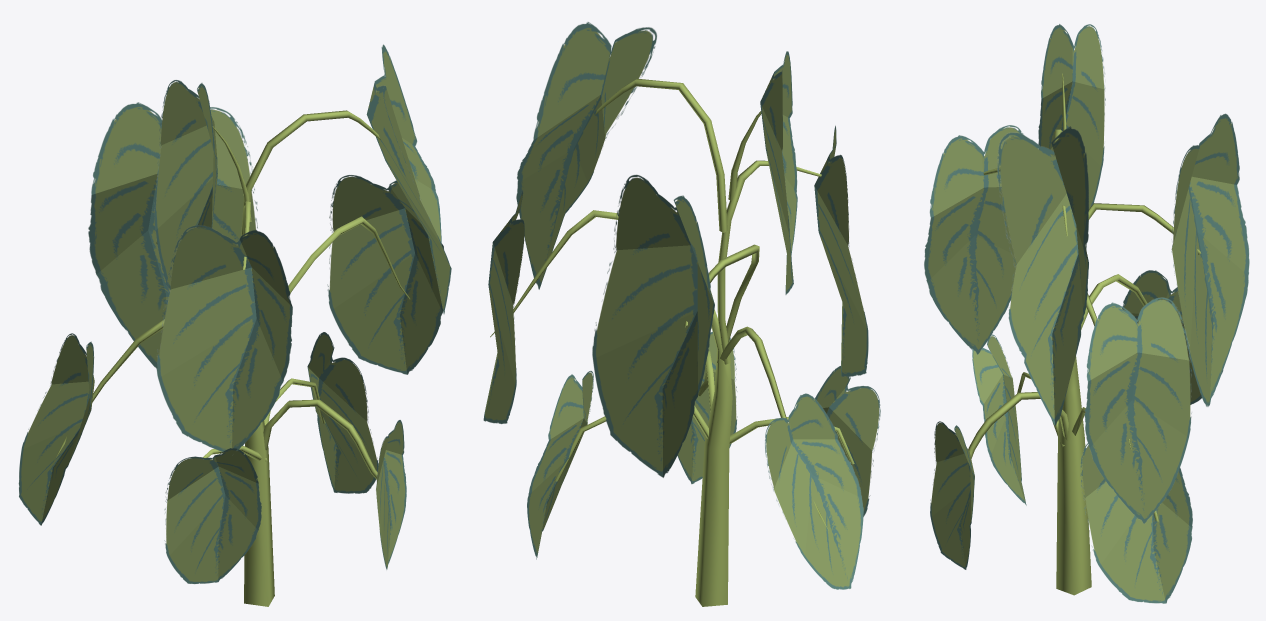
File: PLANTSZ.glb
3 views of the same model, side by side, from view 1: azimuth 30°, elevation 25°; view 2: azimuth 150°, elevation 25°; view 3: azimuth 270°, elevation 25° (orthographic). The views are drawn at different scales.
Visible parts, largest first — view 1: PLANT; view 2: PLANT; view 3: PLANT.
Part boxes in pixels (box(x1,y1,x2,y2)): PLANT: box(18, 44, 451, 606); PLANT: box(483, 22, 880, 606); PLANT: box(924, 24, 1249, 603).
Bounding box in the file's own units: 1.39 × 1.91 × 1.08.
Materials: 2 (2 with a texture image).
